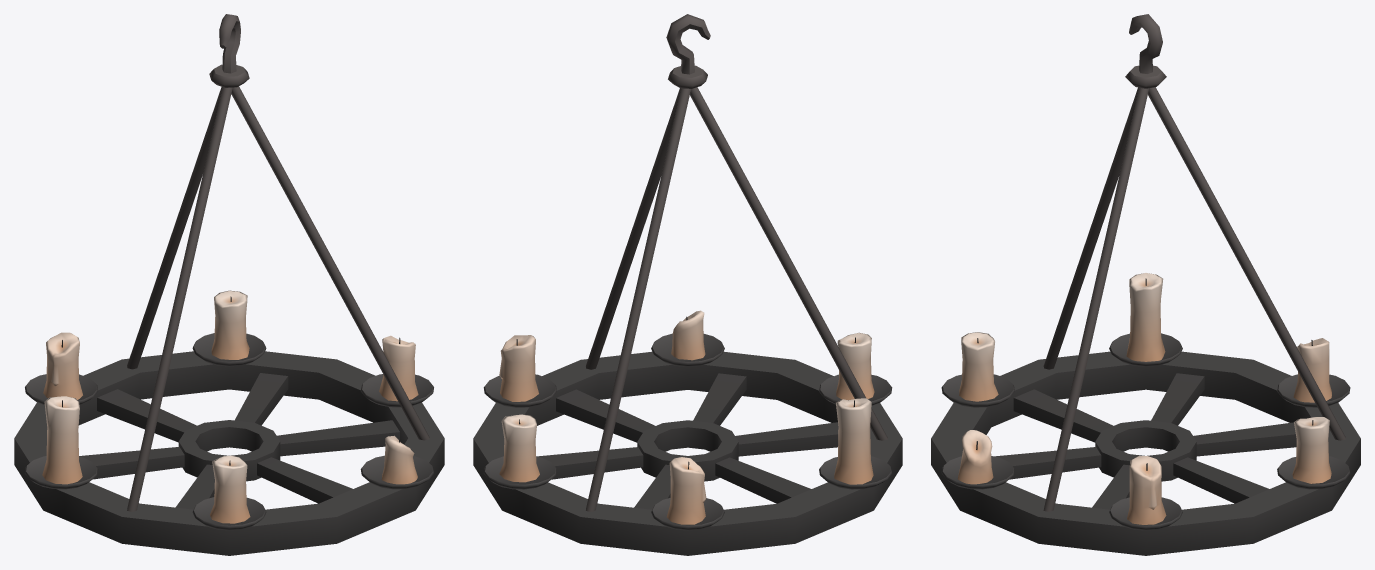
The model's file is Chandelier.fbx.
3 renders of one model, left to right at view 1: azimuth 30°, elevation 25°; view 2: azimuth 150°, elevation 25°; view 3: azimuth 270°, elevation 25°, orthographic.
Visible parts, largest first — view 1: Chandelier; view 2: Chandelier; view 3: Chandelier.
Boxes of the visible parts, left/top/right/bottom form: Chandelier: left=14, top=14, right=444, bottom=555; Chandelier: left=473, top=14, right=902, bottom=555; Chandelier: left=931, top=14, right=1360, bottom=555.
Size of the model in its own units: 64.43 by 69.35 by 60.
